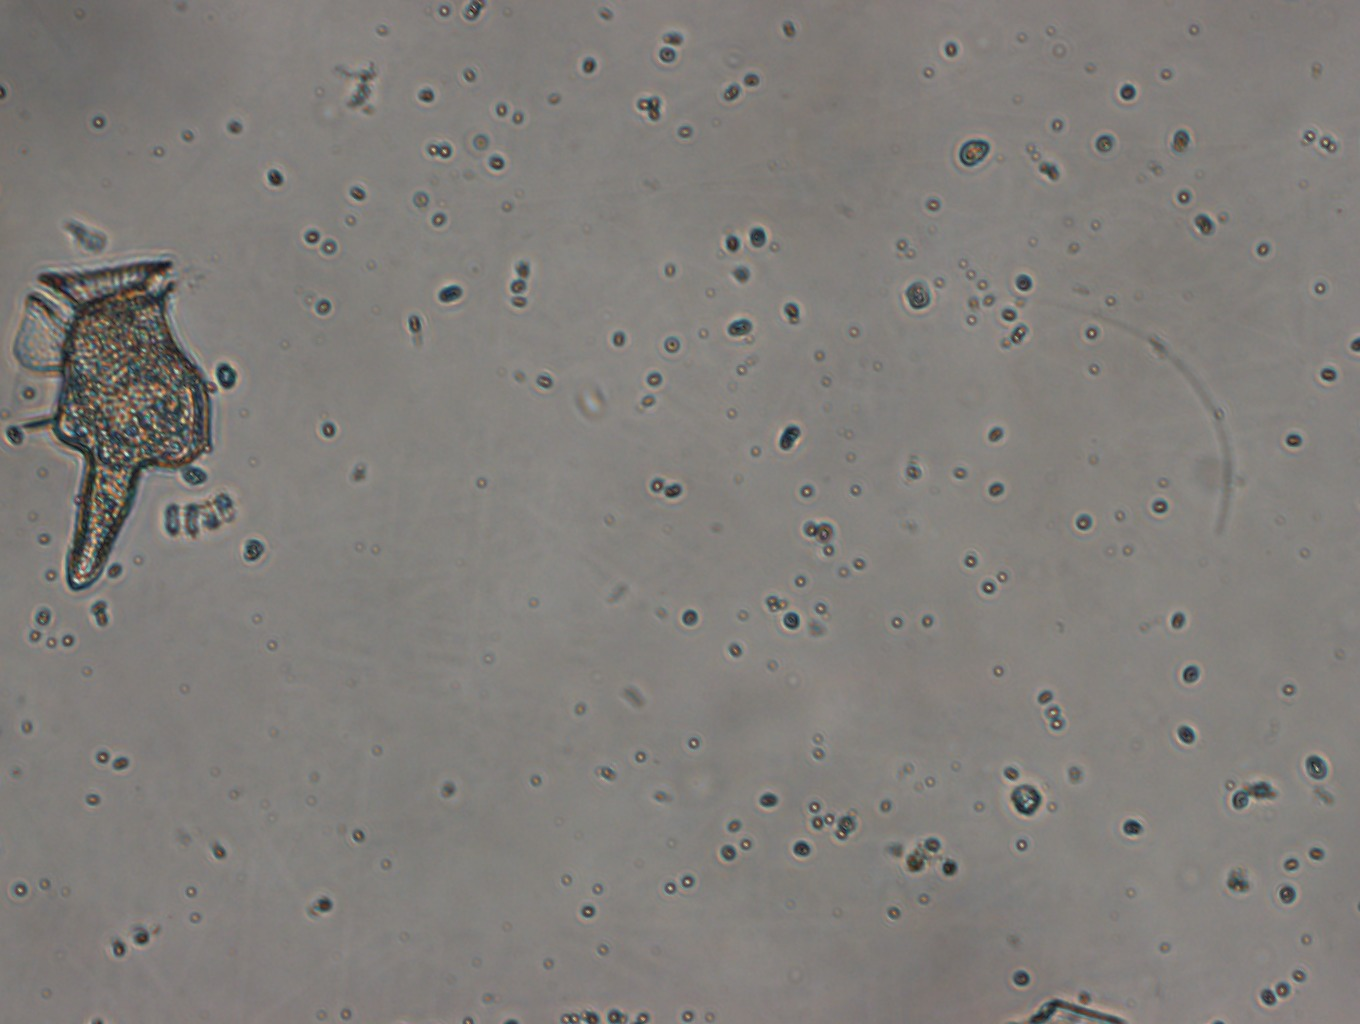dinophysis caudata: (11, 247, 232, 599)
